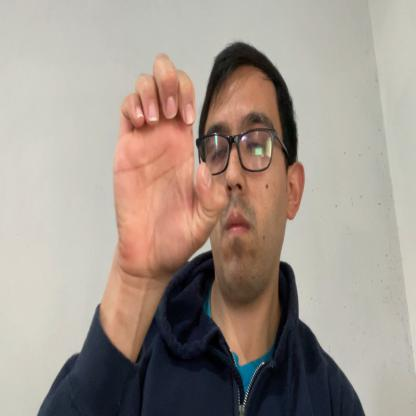E: (112, 52, 226, 278)
